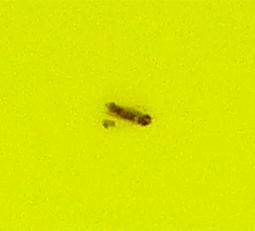Hemiptera: (100, 100, 155, 131)
